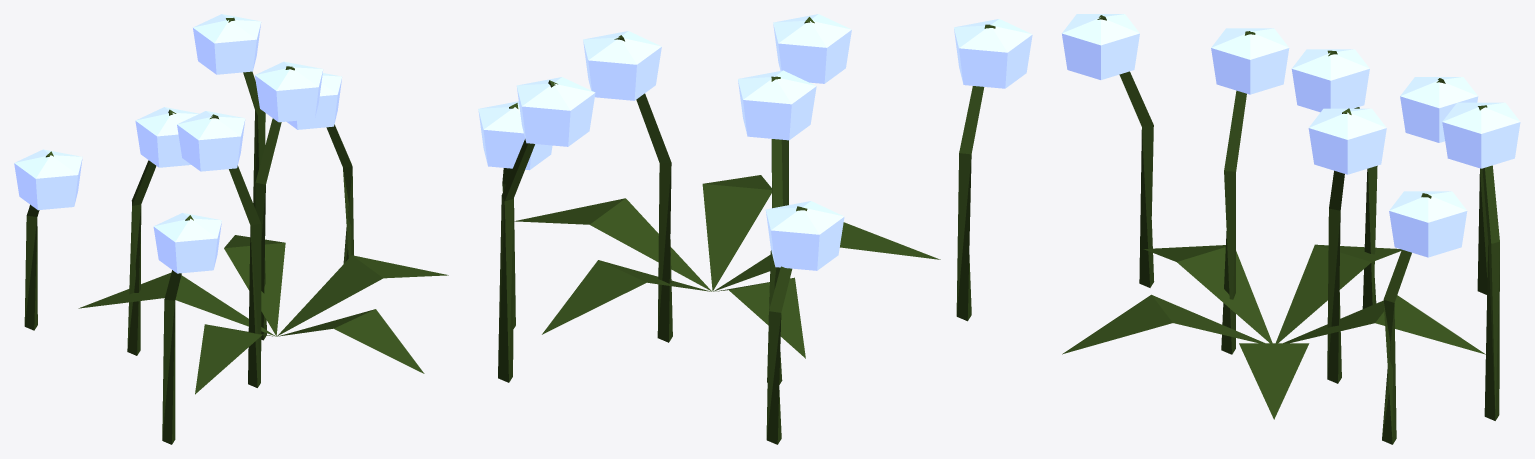
The model's file is flores_a.fbx.
3 renders of one model, left to right at view 1: azimuth 30°, elevation 25°; view 2: azimuth 150°, elevation 25°; view 3: azimuth 270°, elevation 25°, orthographic. The views are drawn at different scales.
Parts seen in each view (by area): view 1: flores_a; view 2: flores_a; view 3: flores_a.
Part boxes in pixels (left/top/right/bottom): flores_a: left=14, top=14, right=448, bottom=444; flores_a: left=478, top=14, right=1032, bottom=444; flores_a: left=1062, top=14, right=1520, bottom=444.
Size of the model in its own units: 0.7963 by 0.5686 by 0.7807.
